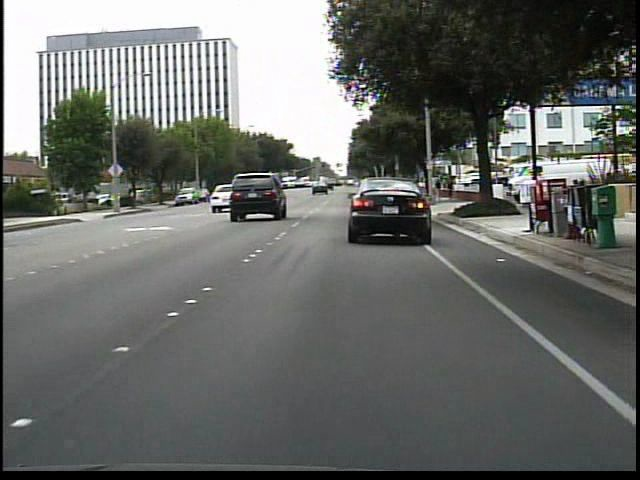person: (433, 177, 444, 202), (445, 177, 455, 202)
